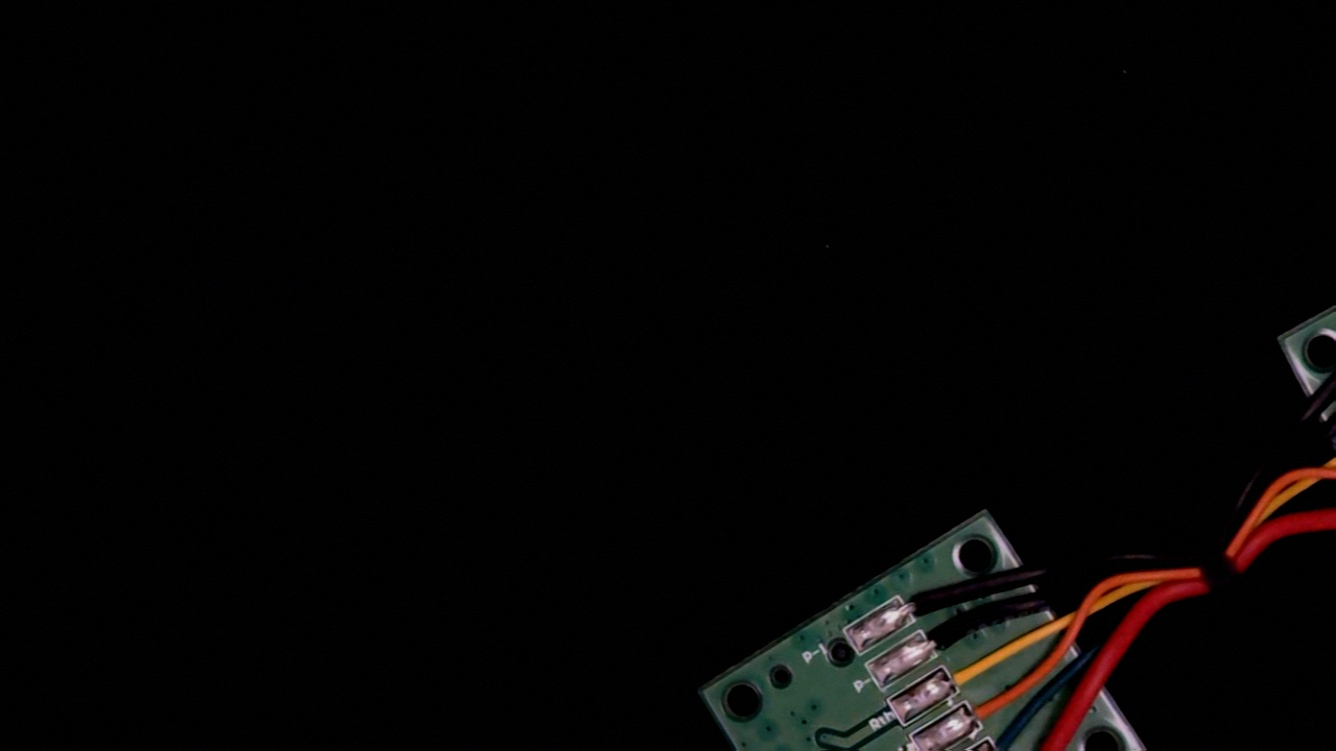Black: (908, 605, 982, 667)
Black1: (885, 567, 963, 632)
Green: (974, 715, 1045, 751)
Orange: (953, 680, 1025, 740)
Red: (998, 745, 1079, 751)
Yellow: (930, 639, 1003, 703)
